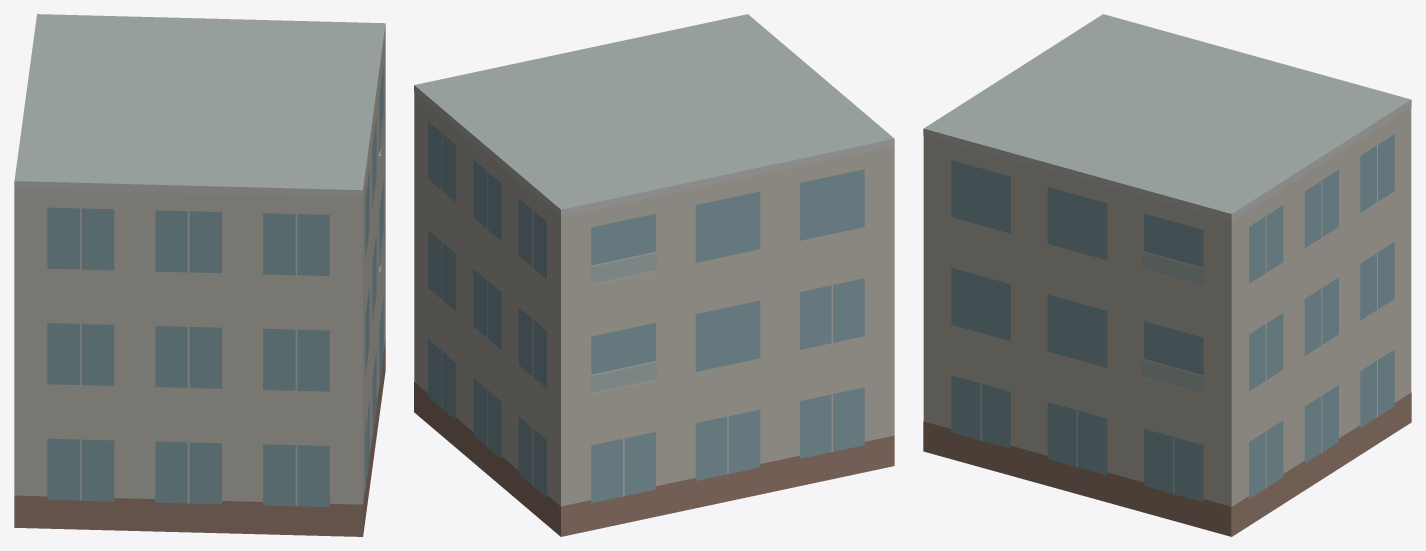
File: survey-upis-32787106.glb
3 views of the same model, side by side, from view 1: azimuth 30°, elevation 25°; view 2: azimuth 150°, elevation 25°; view 3: azimuth 270°, elevation 25° (orthographic). The views are drawn at different scales.
Visible parts, largest first — view 1: survey-upis-32787106.tmp; view 2: survey-upis-32787106.tmp; view 3: survey-upis-32787106.tmp.
Boxes of the visible parts, x1,y1,x2,y2 form: survey-upis-32787106.tmp: (14,14,385,536); survey-upis-32787106.tmp: (414,14,894,536); survey-upis-32787106.tmp: (923,14,1411,536).
Size of the model in its own units: 14.36 by 10.8 by 14.8.
